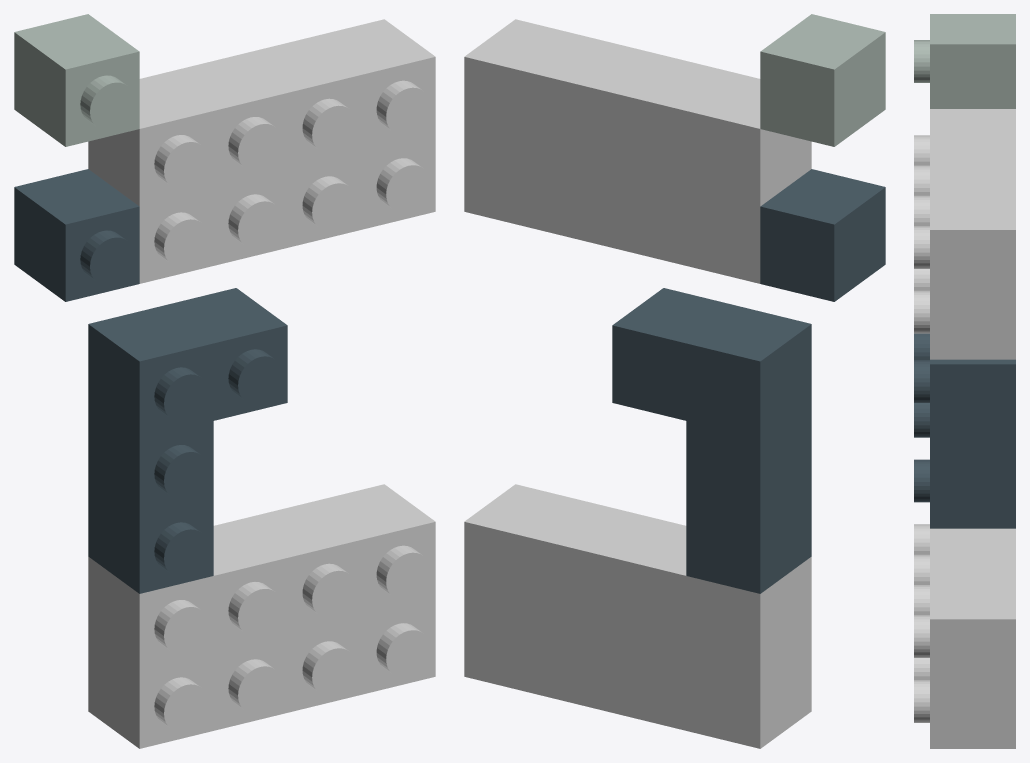
Rendered from current.glb.
3 renders of one model, left to right at view 1: azimuth 30°, elevation 25°; view 2: azimuth 150°, elevation 25°; view 3: azimuth 270°, elevation 25°, orthographic. The views are drawn at different scales.
Visible parts, largest first — view 1: world; view 2: world; view 3: world.
Boxes of the visible parts, left/top/right/bottom form: world: left=14, top=14, right=435, bottom=748; world: left=464, top=14, right=885, bottom=748; world: left=914, top=14, right=1015, bottom=748.
Size of the model in its own units: 40 by 72 by 11.4.
